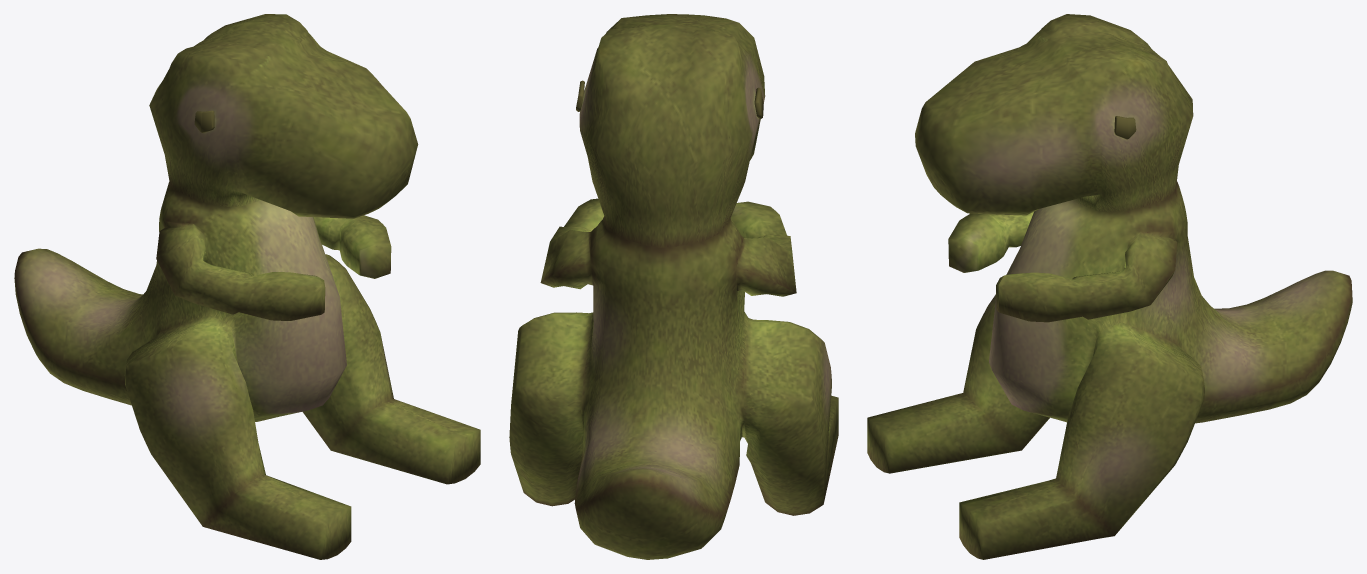
File: Dino.fbx
3 renders of one model, left to right at view 1: azimuth 30°, elevation 25°; view 2: azimuth 150°, elevation 25°; view 3: azimuth 270°, elevation 25°, orthographic. The views are drawn at different scales.
Parts seen in each view (by area): view 1: Cube.013; view 2: Cube.013; view 3: Cube.013.
Boxes of the visible parts, x1,y1,x2,y2 form: Cube.013: [14, 14, 480, 559]; Cube.013: [509, 14, 838, 559]; Cube.013: [867, 14, 1352, 559].
Size of the model in its own units: 29.31 by 40.72 by 40.03.
1 material, 1 textured.
